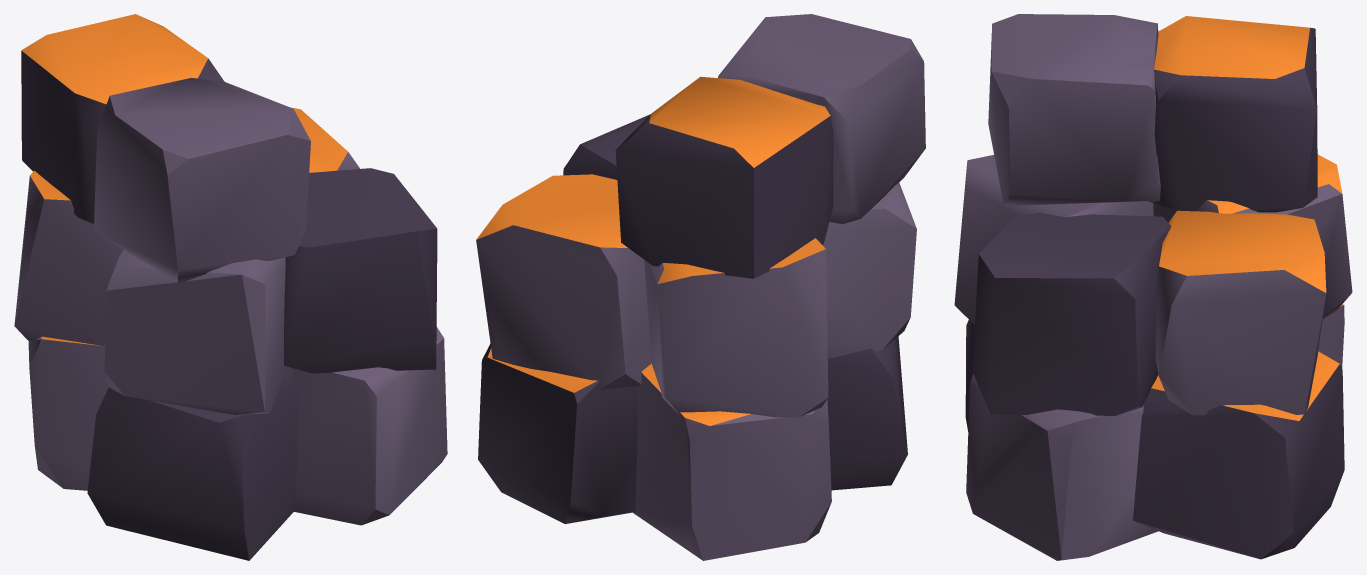
File: breakable_chunks__lower.glb
3 renders of one model, left to right at view 1: azimuth 30°, elevation 25°; view 2: azimuth 150°, elevation 25°; view 3: azimuth 270°, elevation 25°, orthographic.
Visible parts, largest first — view 1: Chunk_09, Chunk_01, Chunk_07, Chunk_05, Chunk_03, Chunk_10, Chunk_06, Chunk_02, Chunk_08; view 2: Chunk_10, Chunk_08, Chunk_02, Chunk_06, Chunk_09, Chunk_04, Chunk_05, Chunk_01, Chunk_07; view 3: Chunk_07, Chunk_08, Chunk_09, Chunk_10, Chunk_04, Chunk_03, Chunk_05, Chunk_06, Chunk_02, Chunk_01.
Part boxes in pixels (left/top/right/bottom): Chunk_09: left=94, top=78, right=310, bottom=282; Chunk_01: left=87, top=366, right=298, bottom=560; Chunk_07: left=284, top=168, right=437, bottom=373; Chunk_05: left=104, top=249, right=287, bottom=414; Chunk_03: left=291, top=327, right=447, bottom=525; Chunk_10: left=21, top=14, right=224, bottom=223; Chunk_06: left=14, top=170, right=122, bottom=345; Chunk_02: left=28, top=336, right=108, bottom=490; Chunk_08: left=290, top=107, right=359, bottom=172; Chunk_10: left=615, top=76, right=833, bottom=278; Chunk_08: left=476, top=174, right=651, bottom=389; Chunk_02: left=633, top=363, right=831, bottom=560; Chunk_06: left=644, top=238, right=828, bottom=417; Chunk_09: left=718, top=14, right=925, bottom=223; Chunk_04: left=478, top=343, right=637, bottom=523; Chunk_05: left=822, top=183, right=916, bottom=358; Chunk_01: left=827, top=336, right=907, bottom=490; Chunk_07: left=563, top=114, right=649, bottom=179; Chunk_07: left=972, top=213, right=1171, bottom=415; Chunk_08: left=1155, top=210, right=1326, bottom=415; Chunk_09: left=988, top=14, right=1160, bottom=206; Chunk_10: left=1148, top=16, right=1317, bottom=212; Chunk_04: left=1133, top=351, right=1344, bottom=559; Chunk_03: left=966, top=374, right=1157, bottom=560; Chunk_05: left=954, top=155, right=1153, bottom=324; Chunk_06: left=1153, top=154, right=1352, bottom=318; Chunk_02: left=1318, top=304, right=1344, bottom=368; Chunk_01: left=965, top=320, right=974, bottom=431.
Bounding box in the file's own units: 1.17 × 1.35 × 1.18.
